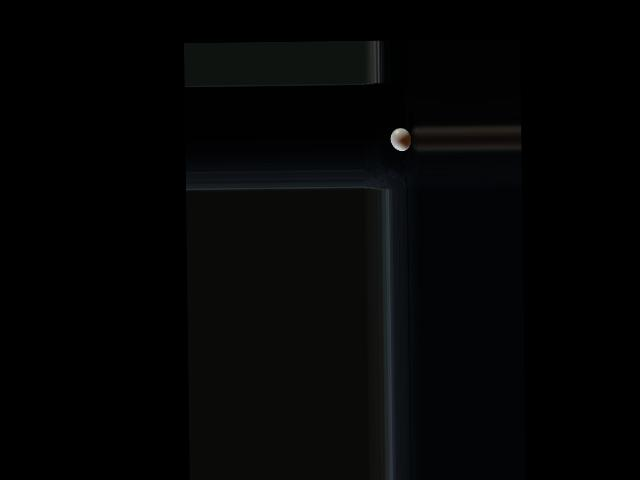egg: (390, 128, 411, 151)
